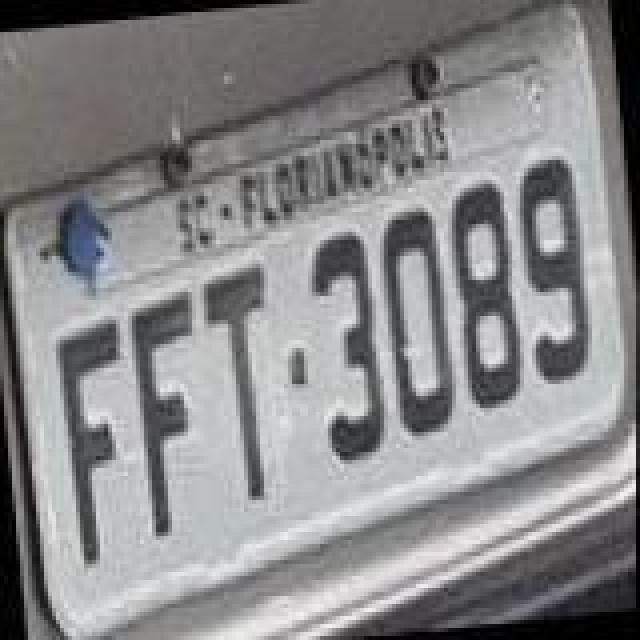3: (306, 226, 394, 462)
8: (444, 180, 528, 412)
9: (510, 156, 598, 388)
F: (52, 314, 144, 566), (128, 290, 220, 542)
O: (374, 202, 462, 438)
T: (196, 262, 288, 506)
